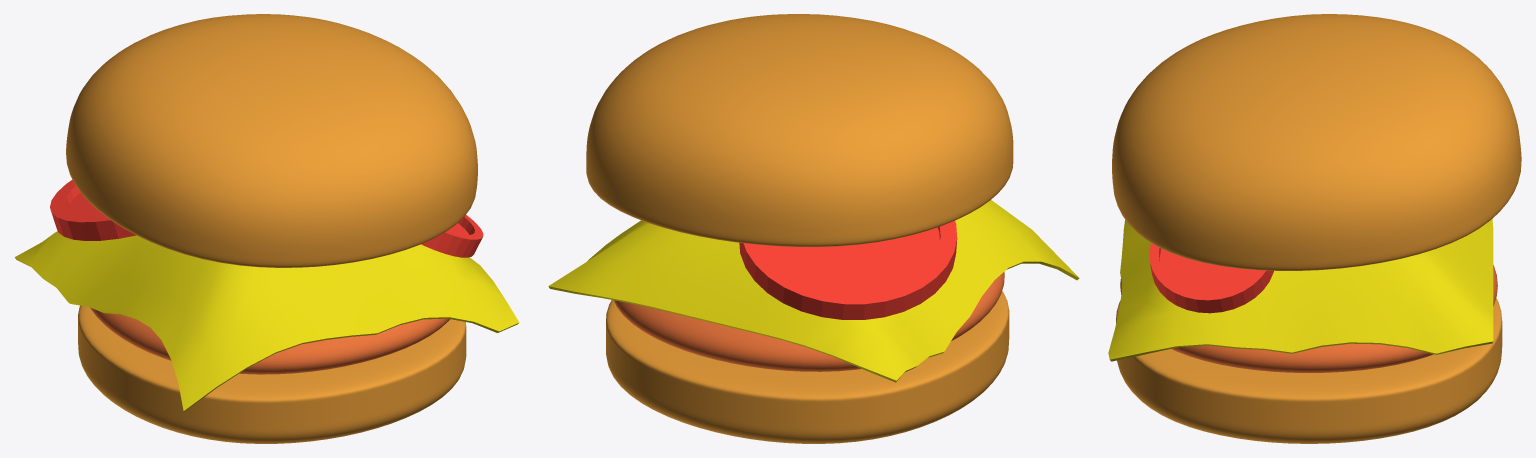
Rendered from hamburger-B5y_rWA4.glb.
3 views of the same model, side by side, from view 1: azimuth 30°, elevation 25°; view 2: azimuth 150°, elevation 25°; view 3: azimuth 270°, elevation 25° (orthographic). The views are drawn at different scales.
Parts seen in each view (by area): view 1: topBun, Plane, bottomBun, meat, tomatoLeft, tomatRight; view 2: topBun, Plane, bottomBun, tomatoLeft, meat; view 3: topBun, Plane, bottomBun, meat, tomatRight.
Boxes of the visible parts, box(x1,y1,x2,y2) form: topBun: box(66, 14, 477, 267); Plane: box(14, 231, 519, 411); bottomBun: box(78, 305, 466, 443); meat: box(90, 307, 449, 374); tomatoLeft: box(50, 179, 135, 240); tomatRight: box(421, 215, 483, 257); topBun: box(586, 14, 1013, 246); Plane: box(548, 200, 1079, 382); bottomBun: box(606, 291, 1009, 443); tomatoLeft: box(739, 220, 957, 319); meat: box(614, 272, 1004, 371); topBun: box(1112, 14, 1521, 270); Plane: box(1108, 219, 1493, 361); bottomBun: box(1116, 298, 1502, 443); meat: box(1120, 265, 1497, 372); tomatRight: box(1149, 243, 1273, 313).
Bounding box in the file's own units: 9.72 × 8.49 × 9.69.
